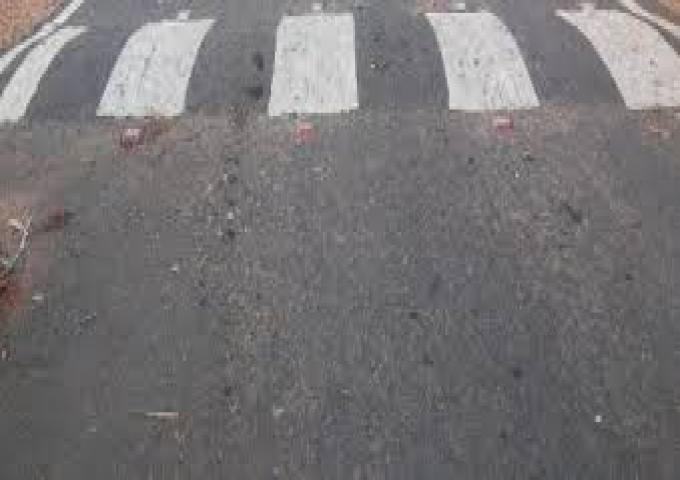speedbreaker: (0, 0, 680, 149)
